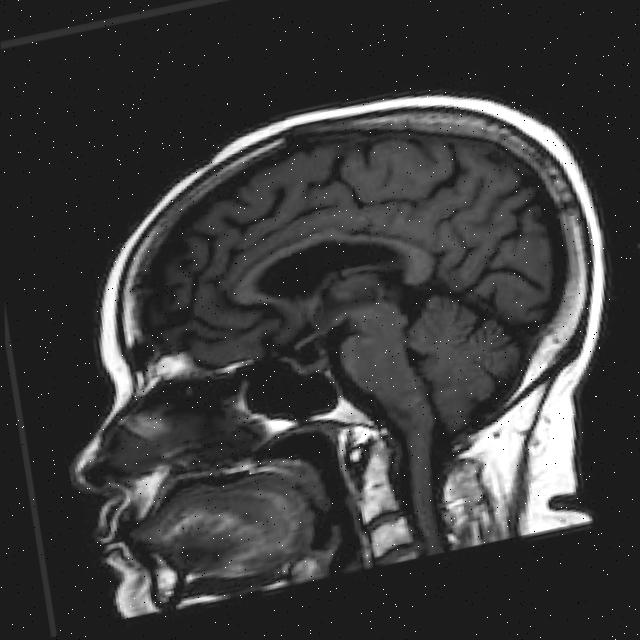NoTumor: (67, 48, 619, 457)
